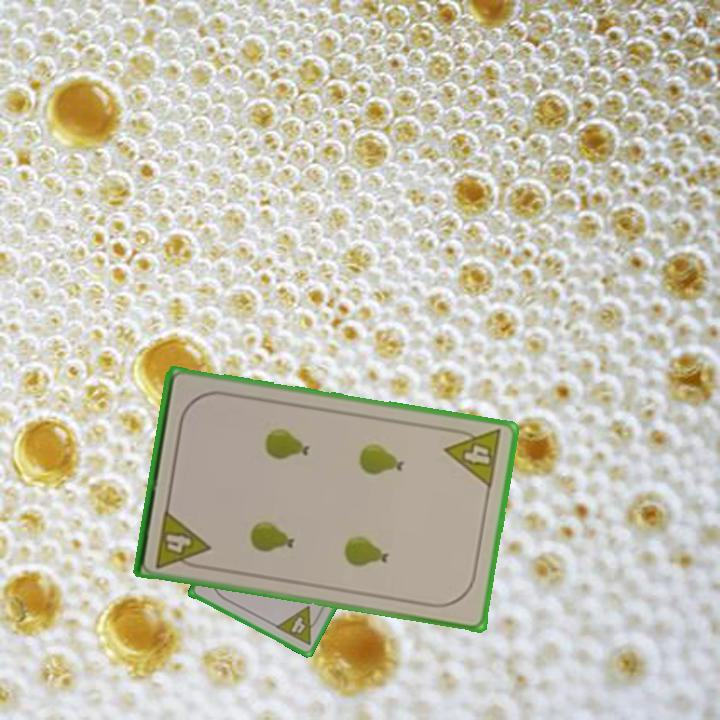4p: (441, 423, 505, 491), (151, 506, 212, 572), (272, 603, 325, 648)
